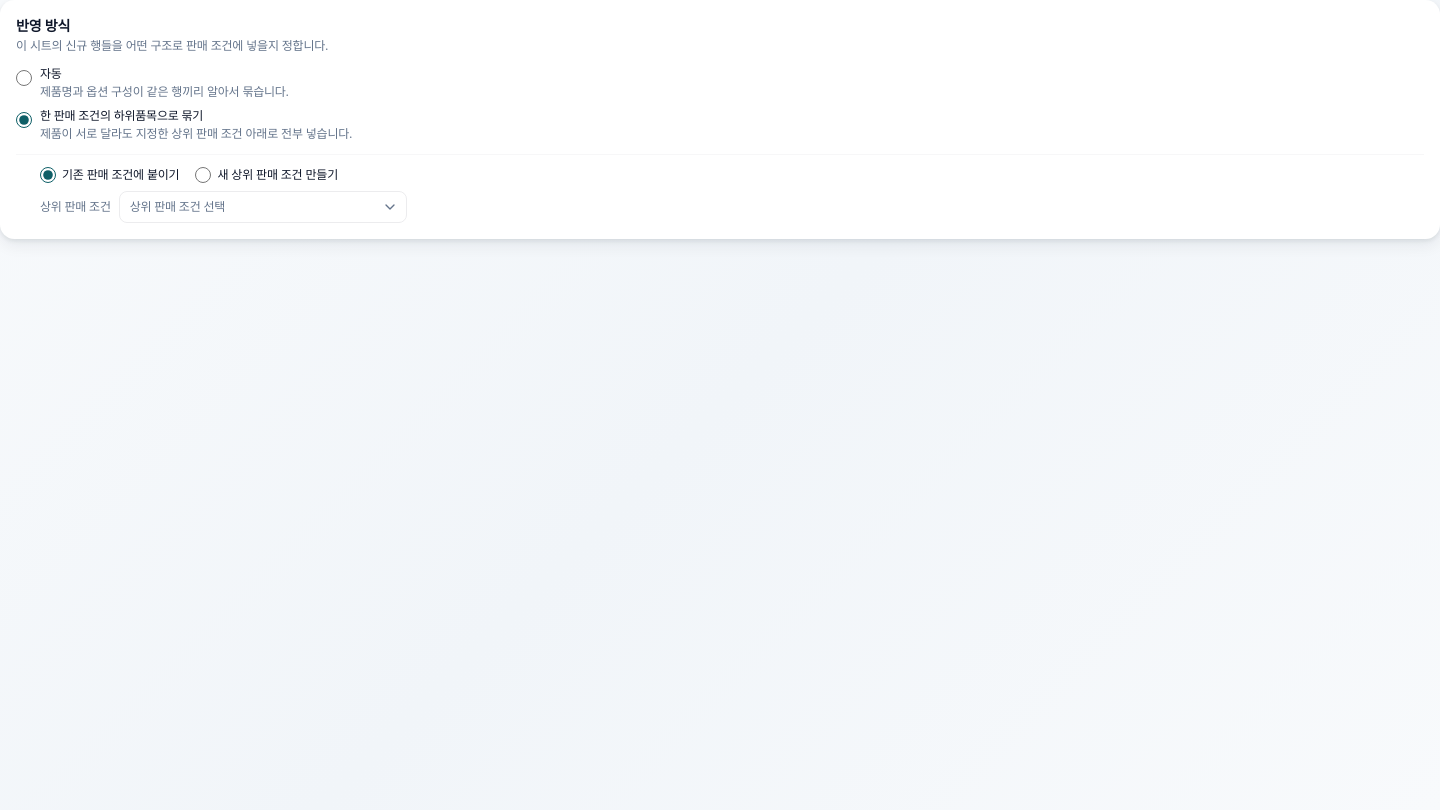
BundlePolicyControl › 시트 거래처의 판매 조건이 목록 앞에 온다
The image size is (1440, 810).
Click the dropdown labelled "상위 판매 조건": click(177, 206) x1=119 y1=191 x2=407 y2=223
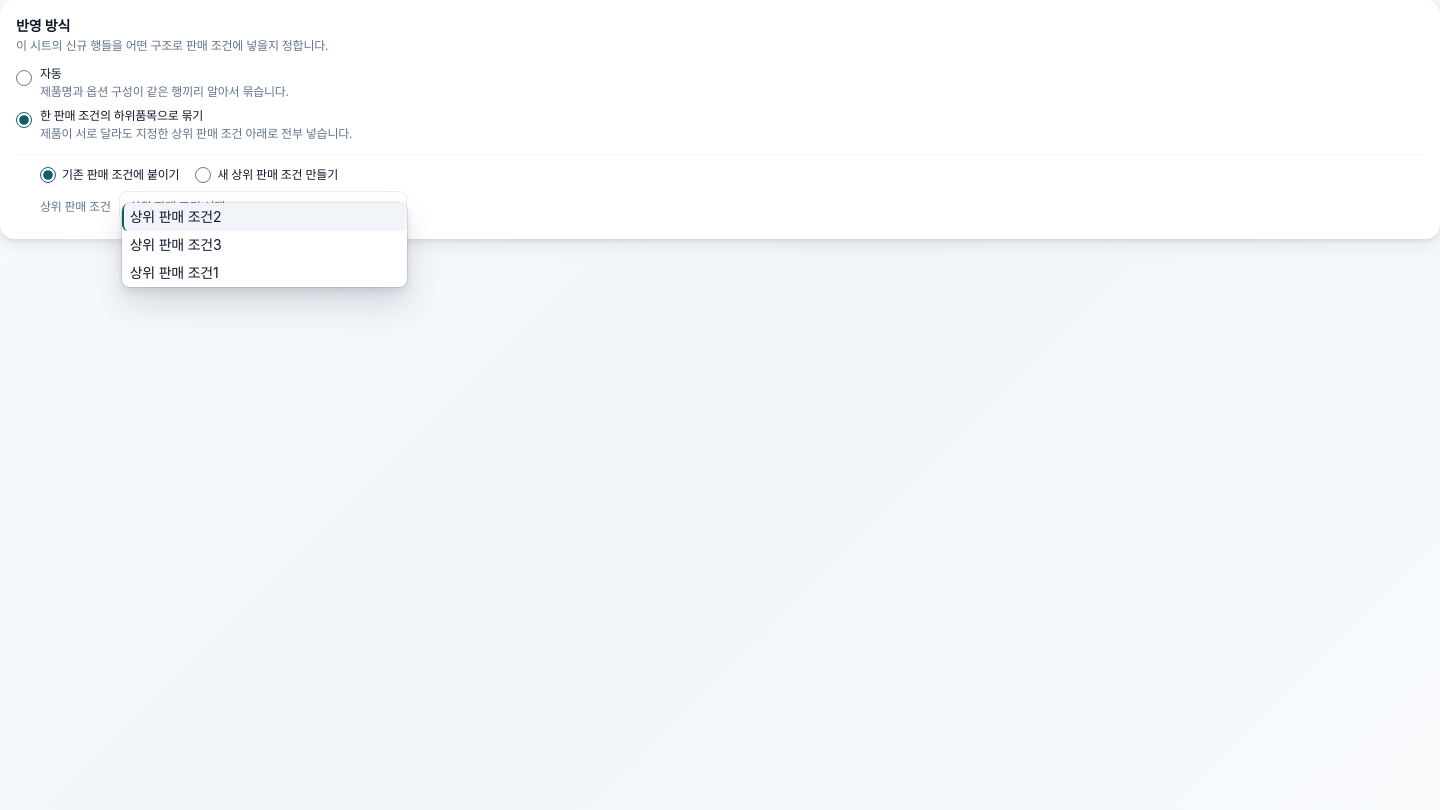
Expected: the text "상위 판매 조건2" is shown, x1=130 y1=207 x2=221 y2=227
